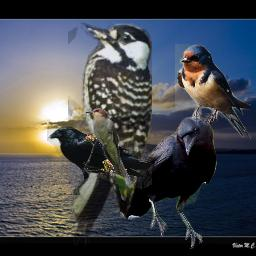Crow: (120, 117, 217, 249), (45, 124, 152, 195)
Cuckoo: (85, 108, 134, 201)
Swallow: (175, 44, 251, 140)
Woodpecker: (68, 21, 152, 246)
